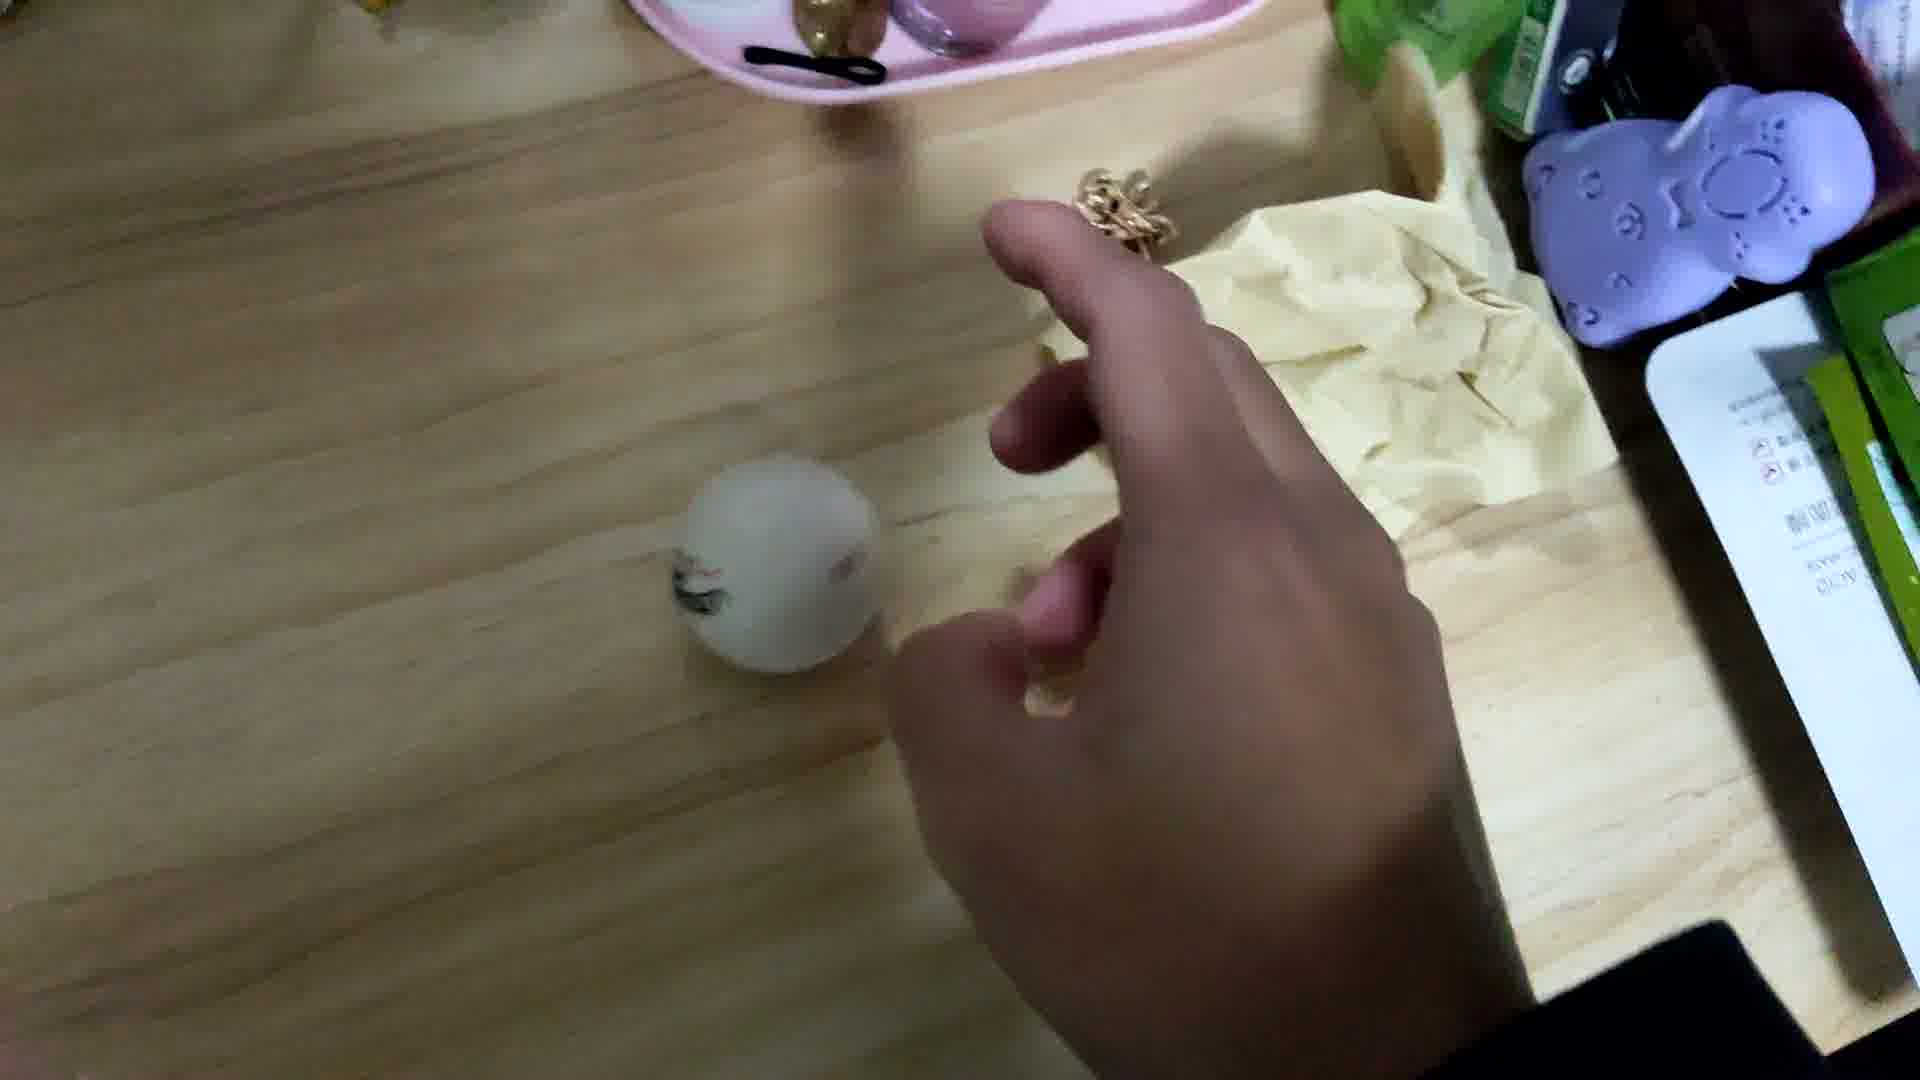Ball: (676, 456, 884, 669)
